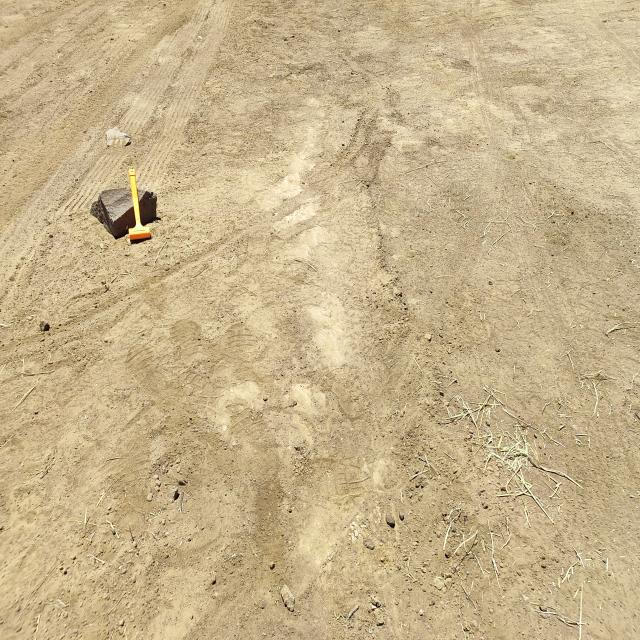Orange_hammer: (127, 168, 151, 242)
